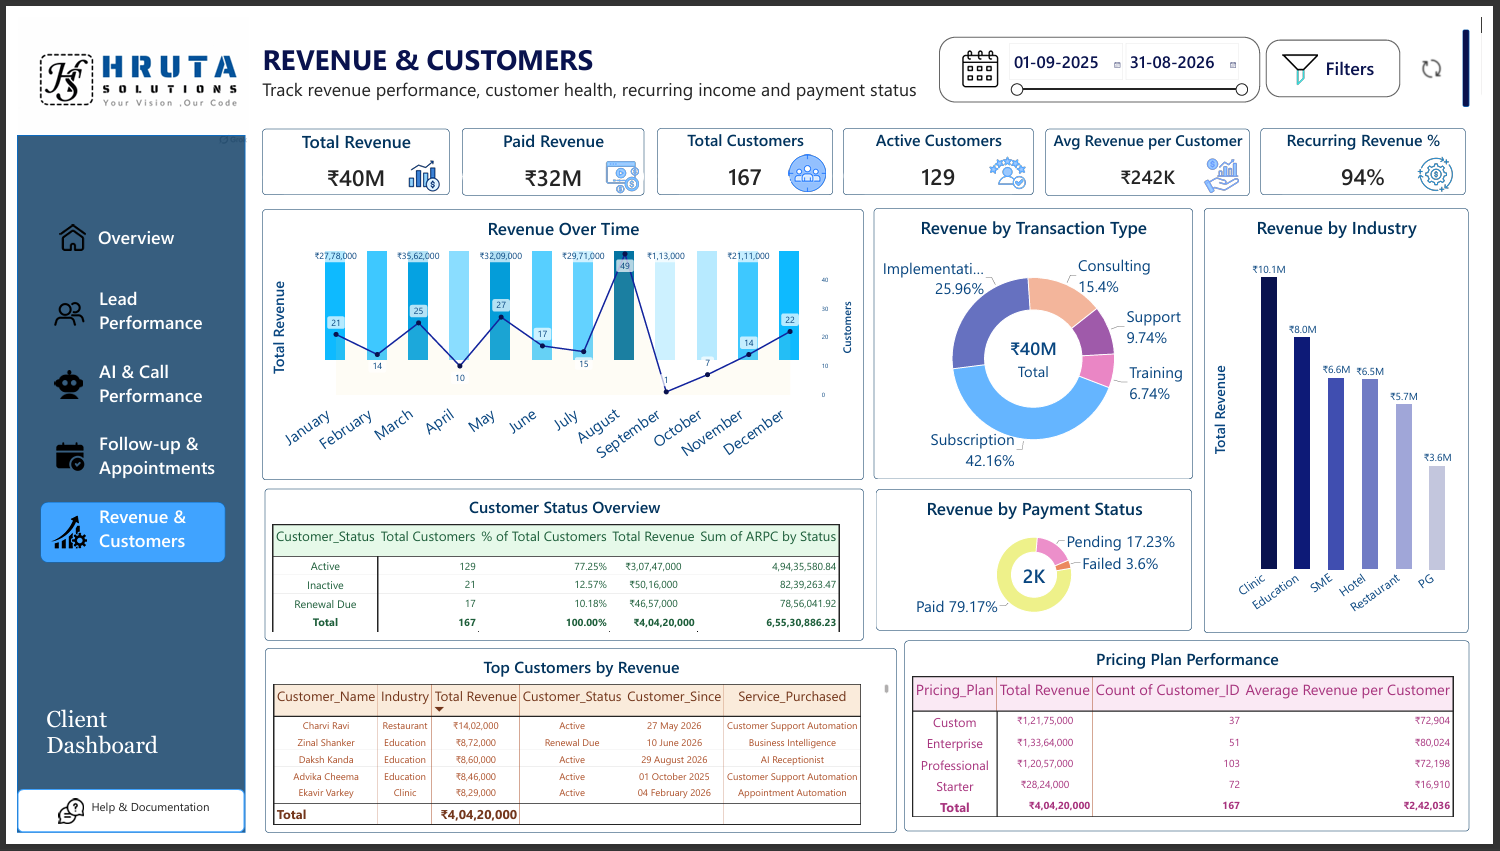

The page's visual inventory and layout, read from the dashboard file:
{"tool":"powerbi","page":{"name":"REVENUE & CUSTOMERS","canvas":[3050,1700],"ordinal":4},"visuals":[{"type":"image","box":[0,0,486,270],"z":0},{"type":"shape","box":[0,246,474,1454],"z":1000},{"type":"textbox","box":[59.8,1435.7,364.6,145.3],"z":2000},{"type":"shape","box":[3010.7,25,14.3,160.7],"z":3000},{"type":"shape","box":[48.4,1011.2,384.6,125.3],"z":4000},{"type":"textbox","box":[40,431.7,373.3,91.7],"z":5000},{"type":"image","box":[71.7,431.7,86.7,55],"z":6000},{"type":"textbox","box":[170,560,288.3,123.3],"z":7000},{"type":"textbox","box":[170,713.3,243.3,106.7],"z":8000},{"type":"textbox","box":[170,863.3,288.3,103.3],"z":9000},{"type":"textbox","box":[170,1015,255,111.7],"z":10000},{"type":"shape","box":[0,1610,473.3,90],"z":11000},{"type":"textbox","box":[112,1630,346,70],"z":12000},{"type":"image","box":[71.7,881.7,75,68.3],"z":13000},{"type":"image","box":[60,1035,95,76.7],"z":14000},{"type":"image","box":[78.3,731.7,60,68.3],"z":15000},{"type":"image","box":[73.3,576.7,70,90],"z":16000},{"type":"image","box":[70,1630,85,53.3],"z":17000},{"type":"textbox","box":[509.9,45.6,1549.6,162.4],"z":18000},{"type":"shape","box":[1919.9,39.9,669.4,136.7],"z":19000},{"type":"shape","box":[2600.7,45.6,280,120],"z":20000},{"type":"textbox","box":[2674.8,79.8,202.2,82.6],"z":21000},{"type":"image","box":[2626.4,71.2,95,75],"z":22000},{"type":"cardVisual","title":"Total Revenue","fields":{"Data":["Customers.Total Revenue"]},"box":[510,231.7,390,138.3],"z":23000},{"type":"cardVisual","title":"Paid Revenue","fields":{"Data":["Revenue.Paid Revenue"]},"box":[925.7,231.4,380,140],"z":24000},{"type":"cardVisual","title":"Total Customers","fields":{"Data":["Customers.Total Customers"]},"box":[1332.9,231.4,365.7,138.6],"z":25000},{"type":"cardVisual","title":"Active Customers","fields":{"Data":["Customers.Active Customers"]},"box":[1720,231.4,397.1,138.6],"z":26000},{"type":"cardVisual","title":"Avg Revenue per Customer","fields":{"Data":["Customers.Average Revenue per Customer"]},"box":[2141.7,231.7,425,140],"z":27000},{"type":"cardVisual","title":"Recurring Revenue %","fields":{"Data":["Customers.Recurring Revenue %"]},"box":[2590,231.4,427.1,138.6],"z":28000},{"type":"slicer","fields":{"Values":["Leads.Lead_Date"]},"box":[2059.5,48.4,507,159.5],"z":29000},{"type":"actionButton","box":[2892.9,58.6,106.7,96.7],"z":30000},{"type":"actionButton","box":[2626.4,71.2,95,75],"z":31000},{"type":"image","box":[1959.8,62.7,92,88],"z":32000},{"type":"lineClusteredColumnComboChart","title":"Revenue Over Time","fields":{"Category":["Revenue.Revenue_Date.Variation.Date Hierarchy.Month"],"Y":["Customers.Total Revenue"],"Y2":["Customers.Customers with Revenue"]},"box":[510,400,1252.5,565],"z":33000},{"type":"donutChart","title":"Revenue by Payment Status","fields":{"Category":["Revenue.Payment_Status"],"Y":["Customers.Total Revenue"]},"box":[1789,983.7,657.5,295.6],"z":34000},{"type":"donutChart","title":"Revenue by Transaction Type","fields":{"Category":["Revenue.Transaction_Type"],"Y":["Customers.Total Revenue"]},"box":[1784,397.6,665,565],"z":35000},{"type":"clusteredColumnChart","title":"Revenue by Industry","fields":{"Category":["Customers.Industry"],"Y":["Customers.Total Revenue"]},"box":[2472,397.6,550.5,886.9],"z":36000},{"type":"pivotTable","title":"Customer Status Overview","fields":{"Rows":["Customers.Customer_Status"],"Values":["Customers.Total Customers","AIHuman.% of Total Customers","Customers.Total Revenue","Sum(Revenue.ARPC by Status)"]},"box":[515,983.3,1248.3,316.7],"z":37000},{"type":"pivotTable","title":"Pricing Plan Performance","fields":{"Rows":["Revenue.Pricing_Plan"],"Values":["Customers.Total Revenue","Count(Revenue.Customer_ID)","Customers.Average Revenue per Customer"]},"box":[1848.3,1300,1176.7,398.3],"z":38000},{"type":"tableEx","title":"Top Customers by Revenue","fields":{"Values":["Customers.Customer_Name","Customers.Industry","Customers.Total Revenue","Customers.Customer_Status","Customers.Customer_Since","Customers.Service_Purchased"]},"box":[515.6,1316,1316,384.6],"z":39000},{"type":"actionButton","box":[28.5,398.8,427.3,125.3],"z":40000},{"type":"actionButton","box":[48.4,558.3,367.5,108.2],"z":41000},{"type":"actionButton","box":[48.4,692.2,413,125.3],"z":42000},{"type":"actionButton","box":[22.8,848.9,427.3,125.3],"z":43000},{"type":"image","box":[794.7,296.2,105.4,68.4],"z":43001},{"type":"image","box":[1216,298,90,70],"z":43002},{"type":"image","box":[1594,286,104,78],"z":43003},{"type":"image","box":[2011.1,284.9,104,78],"z":43004},{"type":"image","box":[2449.7,293.4,118,74],"z":43005},{"type":"image","box":[2882.7,287.7,142,78],"z":43006}]}

Visuals, with their boxes on the page's 3050x1700 design canvas (x1, y1, x2, y2). These are canvas units, not pixel positions in the 1500x851 screenshot, which may show the page scaled, cropped or inside an application window:
image: Rect(0, 0, 486, 270)
shape: Rect(0, 246, 474, 1700)
textbox: Rect(60, 1436, 424, 1581)
shape: Rect(3011, 25, 3025, 186)
shape: Rect(48, 1011, 433, 1136)
textbox: Rect(40, 432, 413, 523)
image: Rect(72, 432, 158, 487)
textbox: Rect(170, 560, 458, 683)
textbox: Rect(170, 713, 413, 820)
textbox: Rect(170, 863, 458, 967)
textbox: Rect(170, 1015, 425, 1127)
shape: Rect(0, 1610, 473, 1700)
textbox: Rect(112, 1630, 458, 1700)
image: Rect(72, 882, 147, 950)
image: Rect(60, 1035, 155, 1112)
image: Rect(78, 732, 138, 800)
image: Rect(73, 577, 143, 667)
image: Rect(70, 1630, 155, 1683)
textbox: Rect(510, 46, 2060, 208)
shape: Rect(1920, 40, 2589, 177)
shape: Rect(2601, 46, 2881, 166)
textbox: Rect(2675, 80, 2877, 162)
image: Rect(2626, 71, 2721, 146)
"Total Revenue" cardVisual: Rect(510, 232, 900, 370)
"Paid Revenue" cardVisual: Rect(926, 231, 1306, 371)
"Total Customers" cardVisual: Rect(1333, 231, 1699, 370)
"Active Customers" cardVisual: Rect(1720, 231, 2117, 370)
"Avg Revenue per Customer" cardVisual: Rect(2142, 232, 2567, 372)
"Recurring Revenue %" cardVisual: Rect(2590, 231, 3017, 370)
slicer - Leads.Lead_Date: Rect(2060, 48, 2566, 208)
actionButton: Rect(2893, 59, 3000, 155)
actionButton: Rect(2626, 71, 2721, 146)
image: Rect(1960, 63, 2052, 151)
"Revenue Over Time" lineClusteredColumnComboChart: Rect(510, 400, 1762, 965)
"Revenue by Payment Status" donutChart: Rect(1789, 984, 2446, 1279)
"Revenue by Transaction Type" donutChart: Rect(1784, 398, 2449, 963)
"Revenue by Industry" clusteredColumnChart: Rect(2472, 398, 3022, 1284)
"Customer Status Overview" pivotTable: Rect(515, 983, 1763, 1300)
"Pricing Plan Performance" pivotTable: Rect(1848, 1300, 3025, 1698)
"Top Customers by Revenue" tableEx: Rect(516, 1316, 1832, 1701)
actionButton: Rect(28, 399, 456, 524)
actionButton: Rect(48, 558, 416, 666)
actionButton: Rect(48, 692, 461, 818)
actionButton: Rect(23, 849, 450, 974)
image: Rect(795, 296, 900, 365)
image: Rect(1216, 298, 1306, 368)
image: Rect(1594, 286, 1698, 364)
image: Rect(2011, 285, 2115, 363)
image: Rect(2450, 293, 2568, 367)
image: Rect(2883, 288, 3025, 366)
